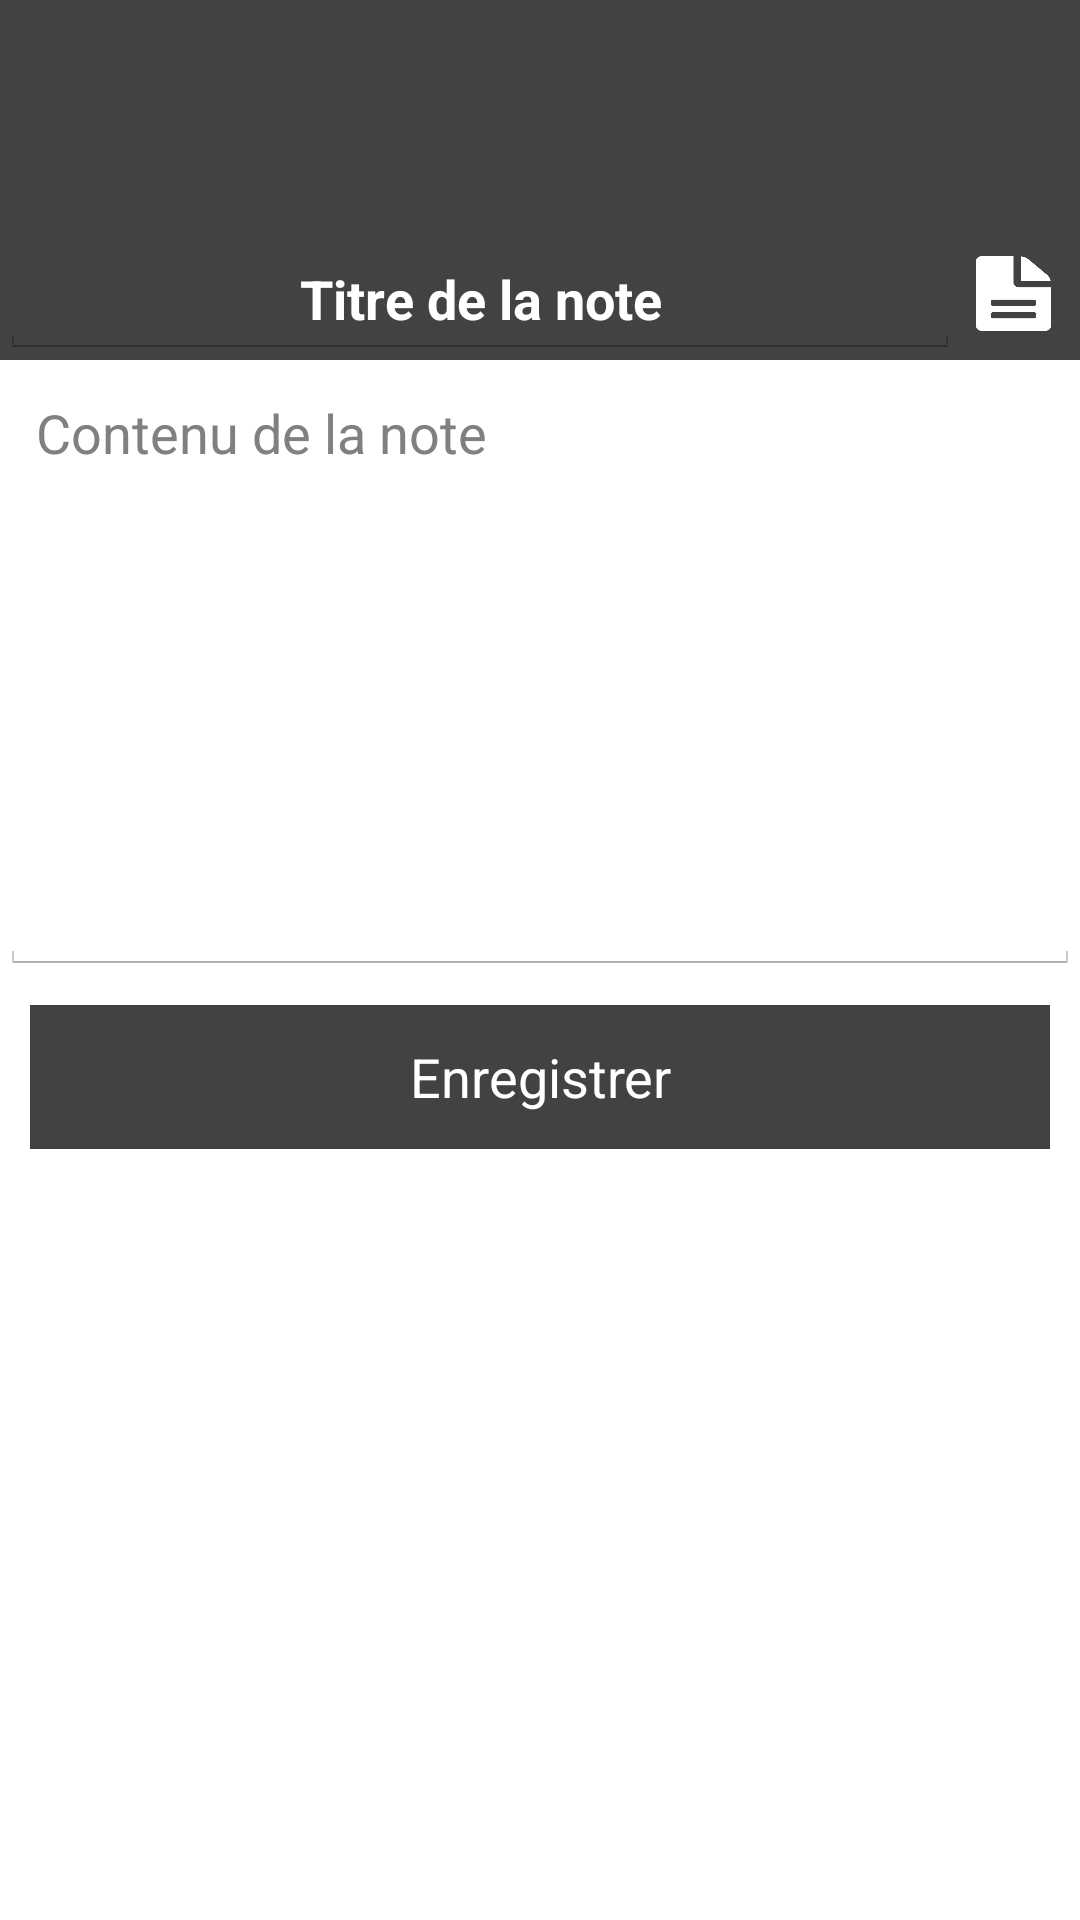

Where to tap for icons on this 1080 × 1920 app screen, as point (x, y):
text: point (1013, 293)
